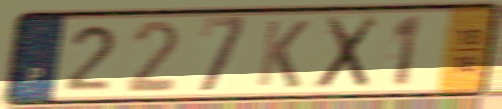1: (385, 13, 425, 90)
2: (121, 18, 182, 96), (62, 23, 120, 93)
7: (198, 14, 247, 97)
K: (253, 17, 312, 91)
X: (312, 13, 383, 92)
